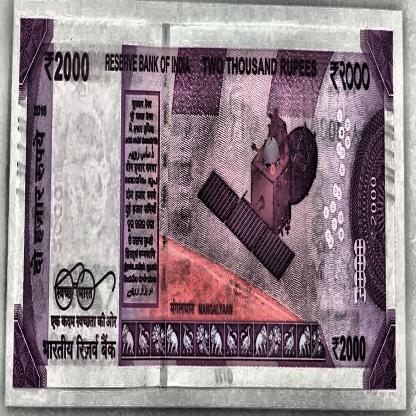Rs2000: (40, 41, 92, 89), (329, 325, 368, 368)
